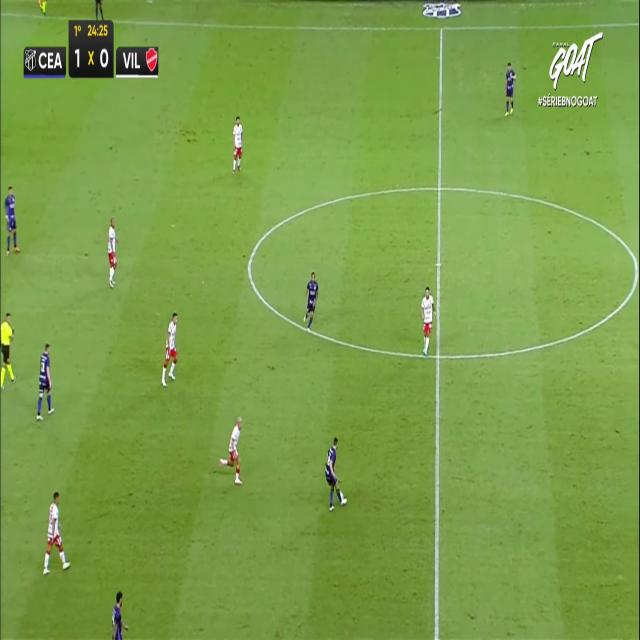ball: (336, 489, 344, 503)
player: (42, 490, 70, 574), (324, 436, 347, 510), (218, 417, 243, 483), (36, 341, 53, 419), (162, 311, 178, 385), (108, 590, 131, 640), (4, 185, 20, 254), (420, 285, 434, 354), (304, 271, 318, 332), (504, 61, 516, 116), (108, 218, 117, 286), (232, 115, 242, 172), (94, 0, 107, 20)
referee: (0, 309, 15, 387)
